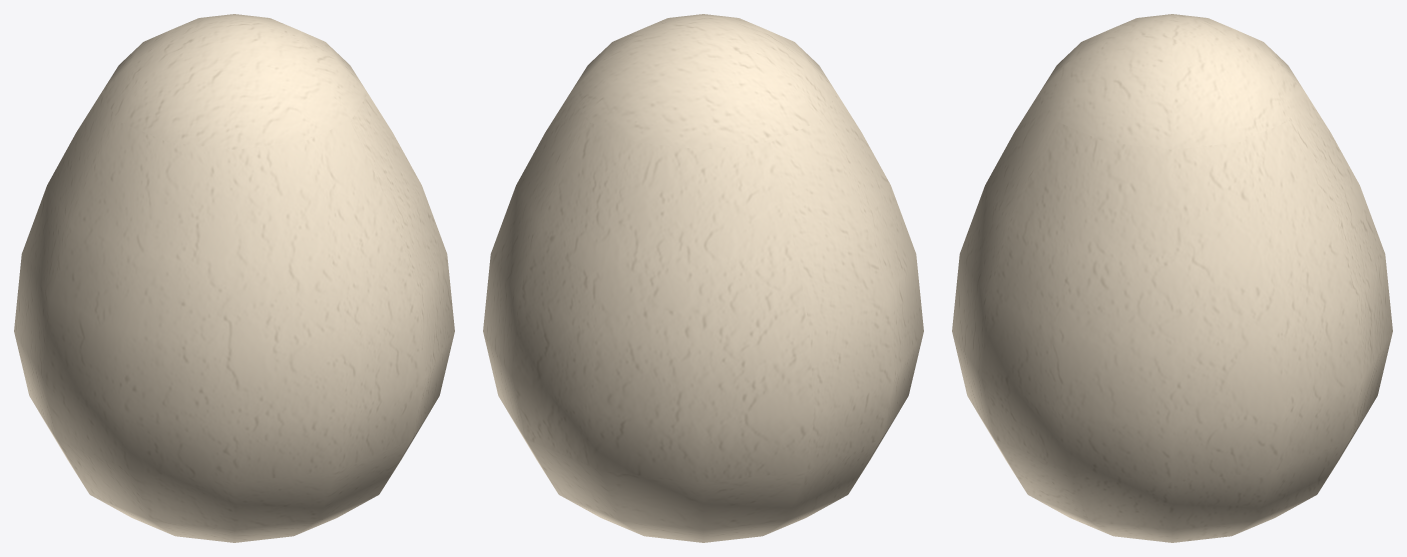
File: Egg.fbx
3 views of the same model, side by side, from view 1: azimuth 30°, elevation 25°; view 2: azimuth 150°, elevation 25°; view 3: azimuth 270°, elevation 25° (orthographic).
Visible parts, largest first — view 1: Egg; view 2: Egg; view 3: Egg.
Part boxes in pixels (box(x1,y1,x2,y2)): Egg: box(14, 14, 454, 542); Egg: box(483, 14, 923, 542); Egg: box(952, 14, 1392, 542).
Bounding box in the file's own units: 21.71 × 26.43 × 21.71.
